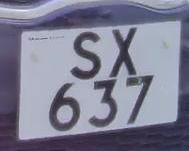3: (80, 76, 125, 131)
6: (41, 77, 88, 135)
7: (120, 69, 160, 128)
S: (66, 27, 107, 82)
X: (103, 24, 141, 79)
